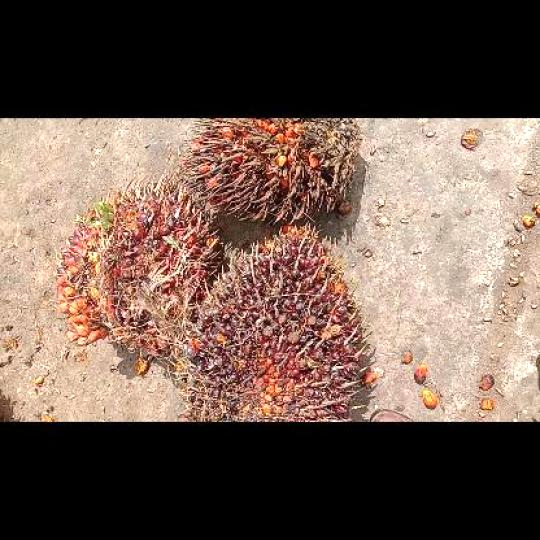kurang masak: (177, 226, 373, 420)
masak: (53, 177, 217, 363)
terlalu masak: (176, 118, 354, 219)
